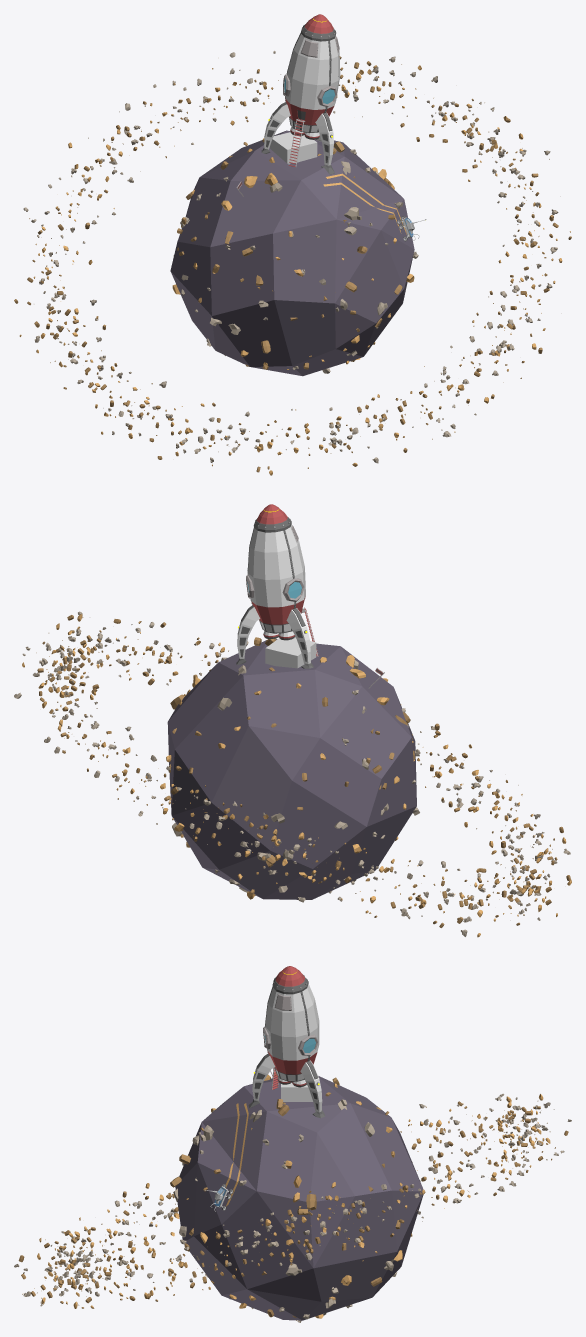
The picture shows the model from 3 angles, top to bottom: view 1: azimuth 30°, elevation 25°; view 2: azimuth 150°, elevation 25°; view 3: azimuth 270°, elevation 25°; orthographic projection. The views are drawn at different scales.
Visible parts, largest first — view 1: planet.002, planet.003, Cube; view 2: planet.002, planet.003, Cube; view 3: planet.002, planet.003, Cube.
Boxes of the visible parts, box(x1,y1,x2,y2) form: planet.002: box(15, 14, 571, 475); planet.003: box(14, 33, 570, 475); Cube: box(270, 132, 317, 163); planet.002: box(18, 504, 571, 937); planet.003: box(14, 528, 571, 927); Cube: box(265, 637, 316, 668); planet.002: box(14, 966, 570, 1322); planet.003: box(18, 987, 571, 1308); Cube: box(281, 1082, 312, 1101).
Size of the model in its own units: 30.54 by 22.9 by 31.63.
Materials: 3 (2 with a texture image).
